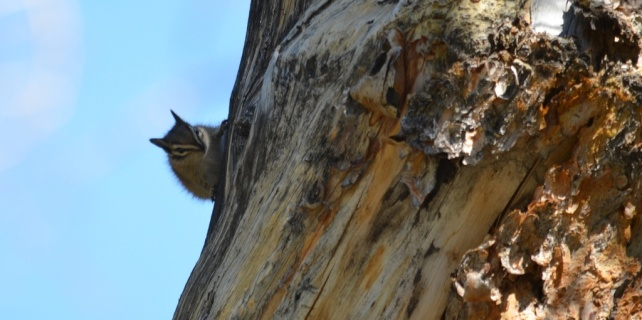Squirrel: (148, 108, 227, 198)
